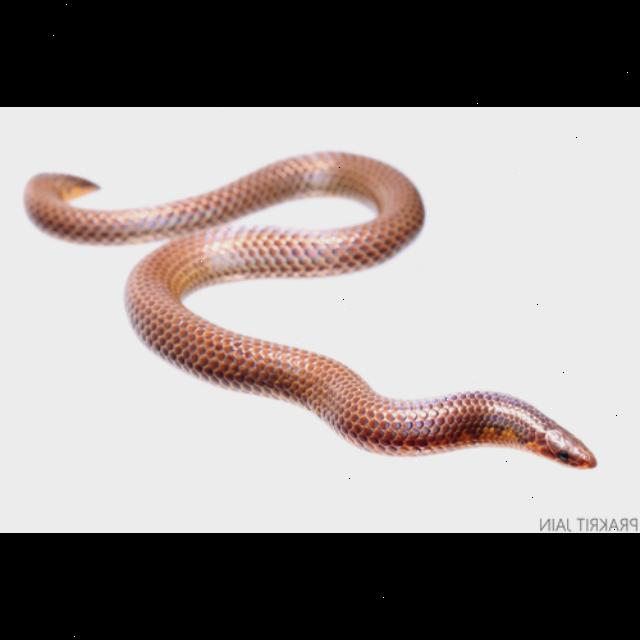snake: (21, 145, 598, 471)
